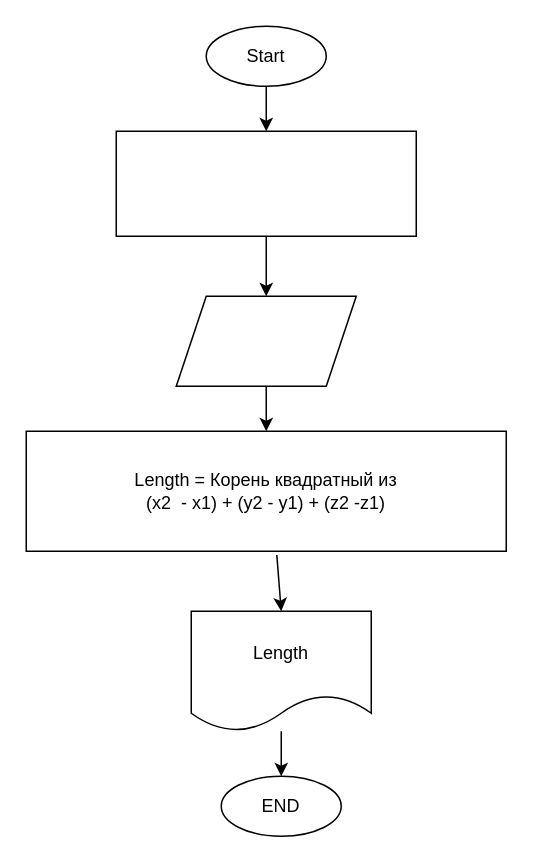
Image size: 533x863. Some labels were removed from this diagram. The shapes that lost their labels are listed below. From the top down, each one's centre as x and y in pixels, then its label:
At (265,183): "A(x1, y1, z1) B(x2, y2, z2) Coordinate(A, B)".
At (265,340): "Введите координаты точек".
